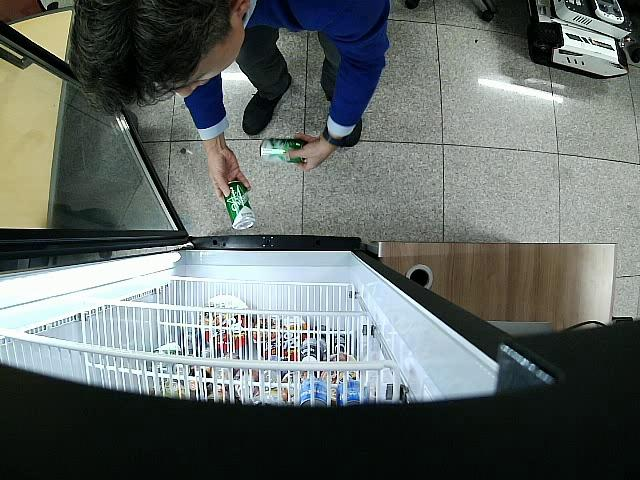00_hand: (205, 143, 250, 205), (284, 133, 327, 172)
12_chilsungCider: (225, 181, 255, 230), (260, 138, 308, 164)
